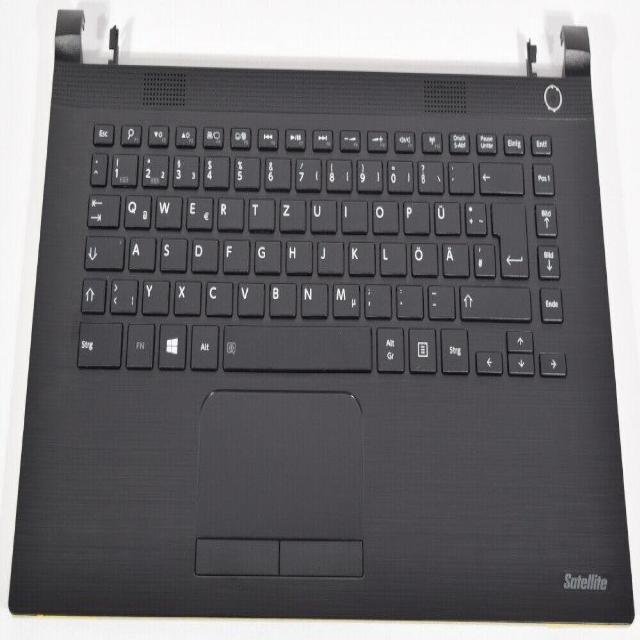0: (384, 156, 412, 190)
1: (108, 150, 136, 184)
2: (139, 150, 167, 184)
3: (170, 149, 197, 185)
4: (201, 152, 227, 186)
5: (231, 153, 258, 186)
6: (262, 153, 289, 187)
7: (292, 153, 320, 188)
8: (323, 156, 351, 190)
9: (354, 154, 381, 189)
a: (126, 232, 153, 268)
accent: (446, 157, 472, 191)
ae: (439, 238, 467, 274)
alt-left: (188, 318, 217, 366)
altgr-right: (373, 321, 403, 369)
b: (266, 277, 295, 314)
c: (203, 276, 231, 314)
caret: (88, 148, 105, 182)
comma: (362, 280, 389, 316)
d: (188, 234, 216, 270)
del: (476, 157, 521, 191)
e: (183, 192, 211, 227)
enter: (488, 195, 526, 276)
f: (220, 234, 247, 270)
g: (251, 235, 278, 270)
h: (282, 235, 310, 272)
hash: (471, 238, 493, 274)
i: (338, 195, 365, 231)
j: (314, 236, 341, 272)
k: (345, 236, 373, 273)
keyboard: (65, 111, 576, 382)
l: (377, 237, 404, 273)
less: (108, 274, 137, 311)
m: (330, 278, 359, 315)
minus: (425, 281, 453, 316)
n: (298, 278, 326, 315)
o: (369, 196, 396, 232)
oe: (408, 237, 435, 274)
p: (400, 198, 427, 232)
plus: (462, 196, 485, 232)
point: (394, 280, 421, 316)
q: (121, 189, 149, 226)
r: (215, 192, 242, 228)
s: (157, 233, 184, 269)
shift-left: (78, 273, 104, 310)
shift-lock: (82, 230, 122, 266)
shift-right: (457, 281, 529, 317)
space: (220, 320, 370, 369)
ss: (415, 157, 442, 190)
strg-left: (73, 316, 121, 365)
strg-right: (437, 322, 467, 371)
t: (245, 193, 272, 228)
tab: (84, 188, 118, 224)
u: (307, 194, 334, 230)
ue: (431, 198, 458, 232)
v: (235, 277, 263, 314)
w: (152, 189, 180, 226)
x: (171, 275, 199, 313)
y: (139, 275, 168, 311)
z: (277, 194, 304, 229)
